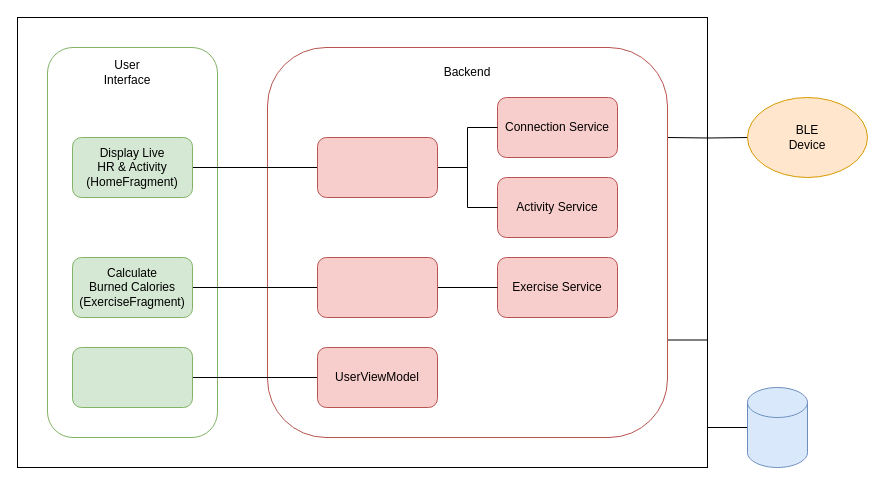
The diagram is 885 pixels wide and 485 high, and some of its shapes have lost their labels. Here are the shapes that lost their labels. From the top down, the centre of each, then its label:
At point (377, 167): "HrViewModel".
At point (377, 287): "ExerciseViewModel".
At point (132, 377): "Manage User Profile (UserFragment".
At point (777, 427): "DB".
